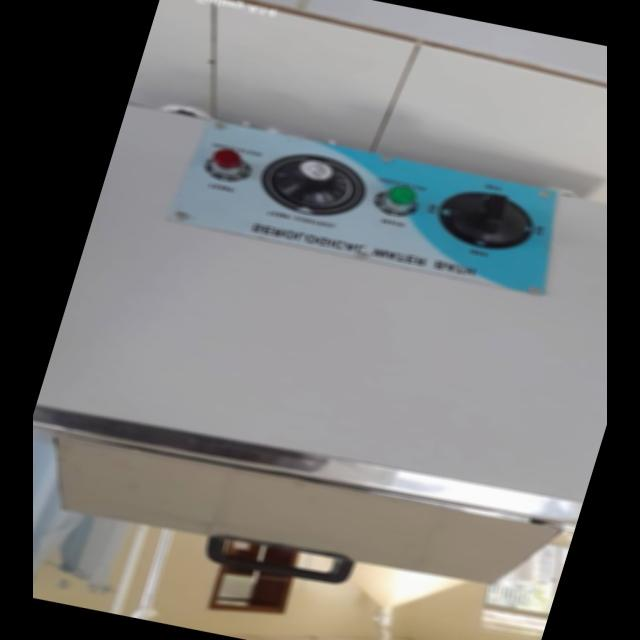Water-Oil Bath: (34, 91, 607, 609)
